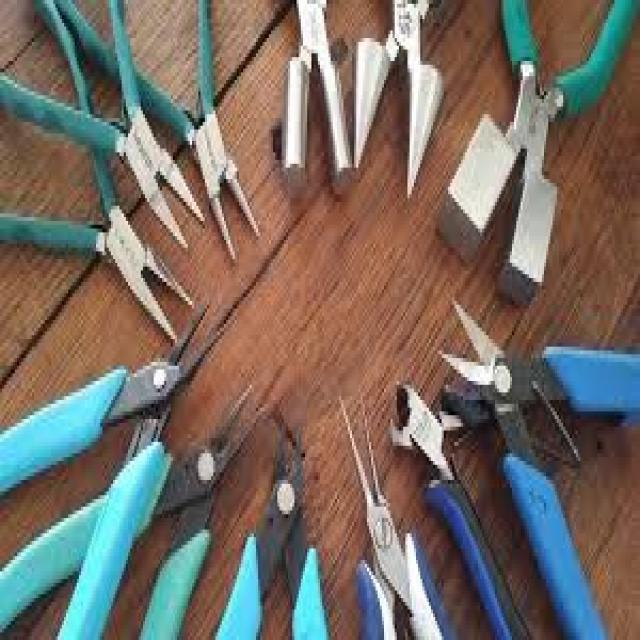pliers: (0, 282, 233, 606), (440, 284, 640, 614), (102, 369, 263, 640), (40, 0, 206, 255), (392, 365, 543, 640), (1, 137, 194, 350), (136, 0, 262, 261), (322, 372, 444, 640), (222, 419, 342, 640)
